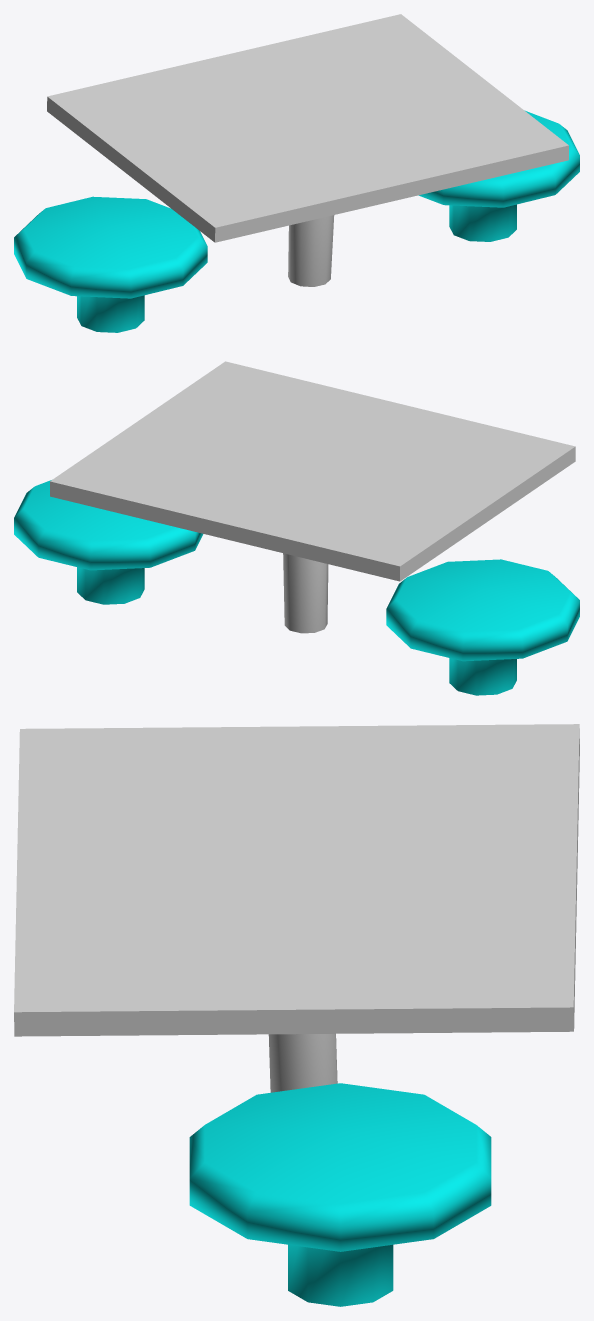
The model's file is Prop_TableChairs_Mod.fbx.
3 renders of one model, top to bottom at view 1: azimuth 30°, elevation 25°; view 2: azimuth 150°, elevation 25°; view 3: azimuth 270°, elevation 25°, orthographic. The views are drawn at different scales.
Parts seen in each view (by area): view 1: table1, Soda_pop_store_scale_test2:polySurface111, Soda_pop_store_scale_test2:polySurface108; view 2: table1, Soda_pop_store_scale_test2:polySurface111, Soda_pop_store_scale_test2:polySurface108; view 3: table1, Soda_pop_store_scale_test2:polySurface108.
Part boxes in pixels (left/top/right/bottom): table1: left=47, top=14, right=568, bottom=286; Soda_pop_store_scale_test2:polySurface111: left=14, top=196, right=207, bottom=332; Soda_pop_store_scale_test2:polySurface108: left=418, top=110, right=579, bottom=241; table1: left=50, top=361, right=575, bottom=633; Soda_pop_store_scale_test2:polySurface111: left=386, top=559, right=579, bottom=695; Soda_pop_store_scale_test2:polySurface108: left=14, top=480, right=203, bottom=604; table1: left=14, top=724, right=579, bottom=1092; Soda_pop_store_scale_test2:polySurface108: left=189, top=1083, right=491, bottom=1306.
Size of the model in its own units: 1.79 by 0.5251 by 0.9941.
